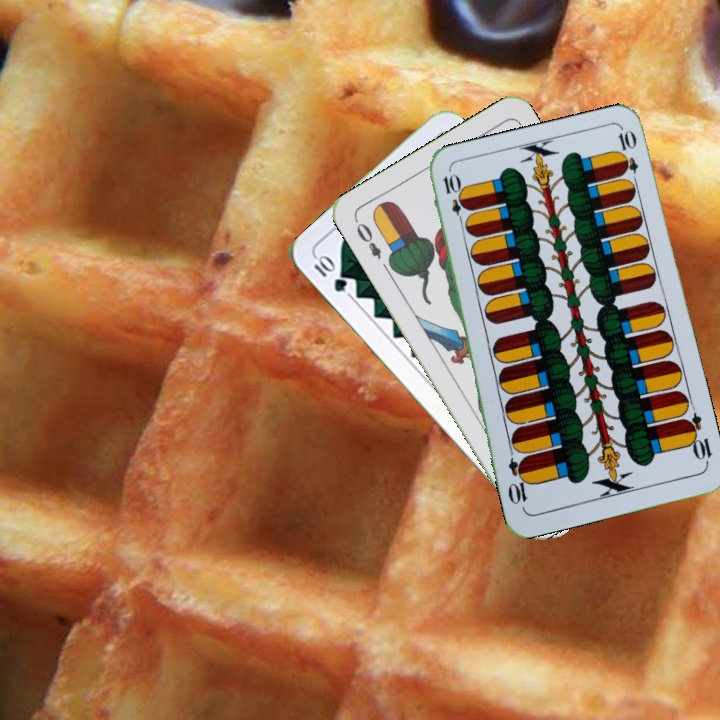E10: (679, 409, 715, 468), (439, 170, 468, 229)
EO: (351, 215, 384, 262)
G10: (309, 251, 350, 295)
